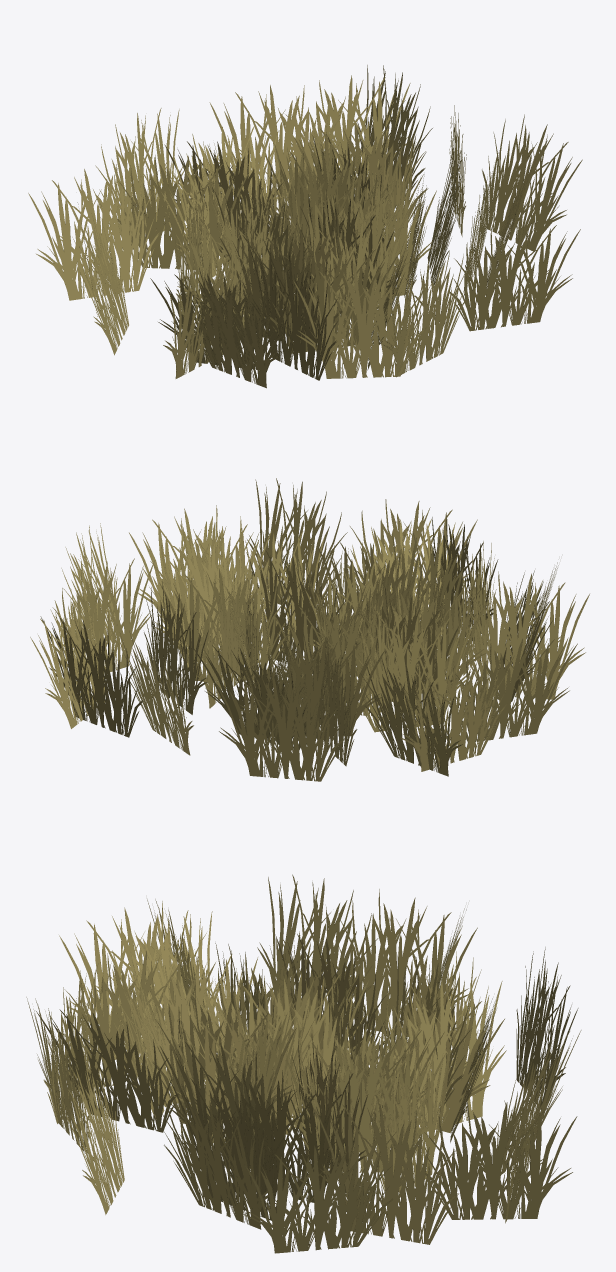
File: space_dry_grass.fbx
The picture shows the model from 3 angles, top to bottom: view 1: azimuth 30°, elevation 25°; view 2: azimuth 150°, elevation 25°; view 3: azimuth 270°, elevation 25°; orthographic projection. The views are drawn at different scales.
Parts seen in each view (by area): view 1: Cube; view 2: Cube; view 3: Cube.
Part boxes in pixels (x1,y1,x2,y2): Cube: (28, 65, 582, 388); Cube: (30, 478, 589, 781); Cube: (26, 874, 581, 1253).
Size of the model in its own units: 85.24 by 22.89 by 71.19.
1 material, 1 textured.
